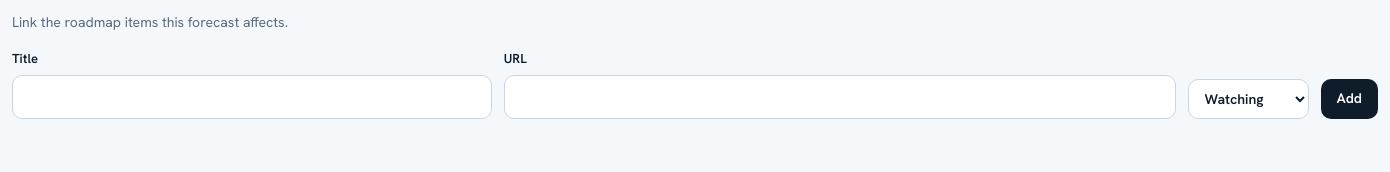
Test case: RoadmapLinks › shows the add error for 409
The image size is (1390, 172).
Type "T" into the field labelled "Title" at [252, 96], box [12, 74, 492, 118]
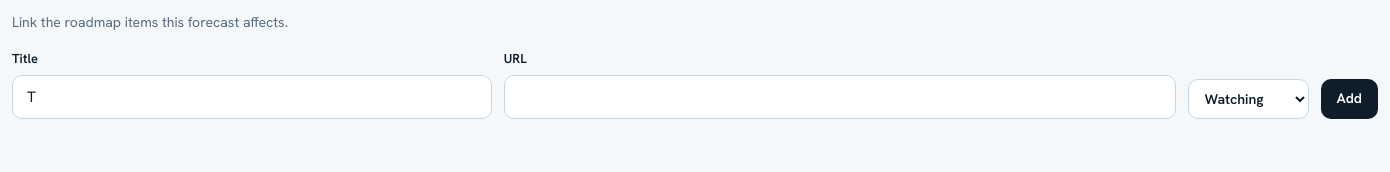
Type "https://a.example.org" into the field labelled "URL" at [840, 96], box [504, 74, 1176, 118]
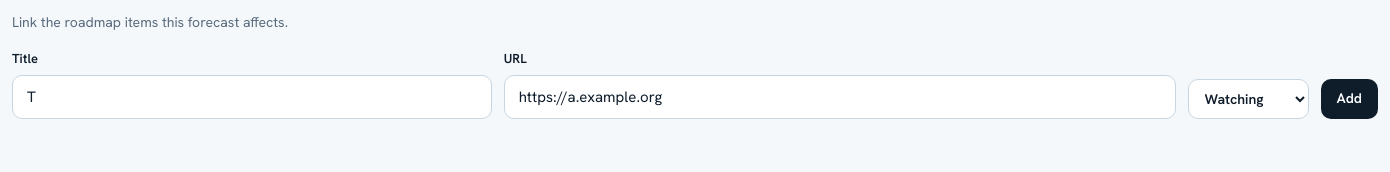
Click the button "Add" at [1349, 98], box [1320, 78, 1378, 118]
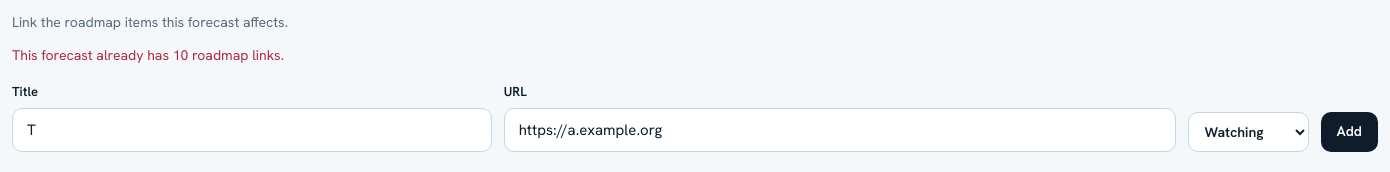
Expected: the message reads "This forecast already has 10 roadmap links.", [12, 46, 284, 64]
